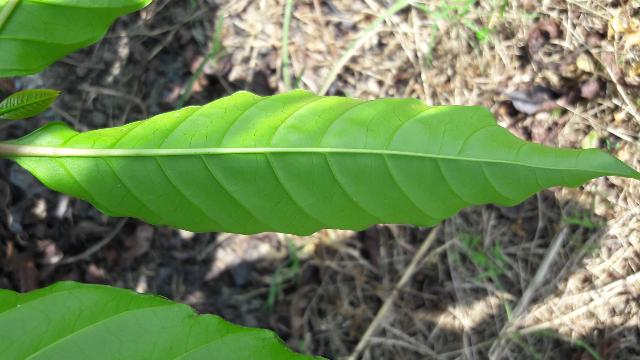healthy: (14, 97, 619, 230)
